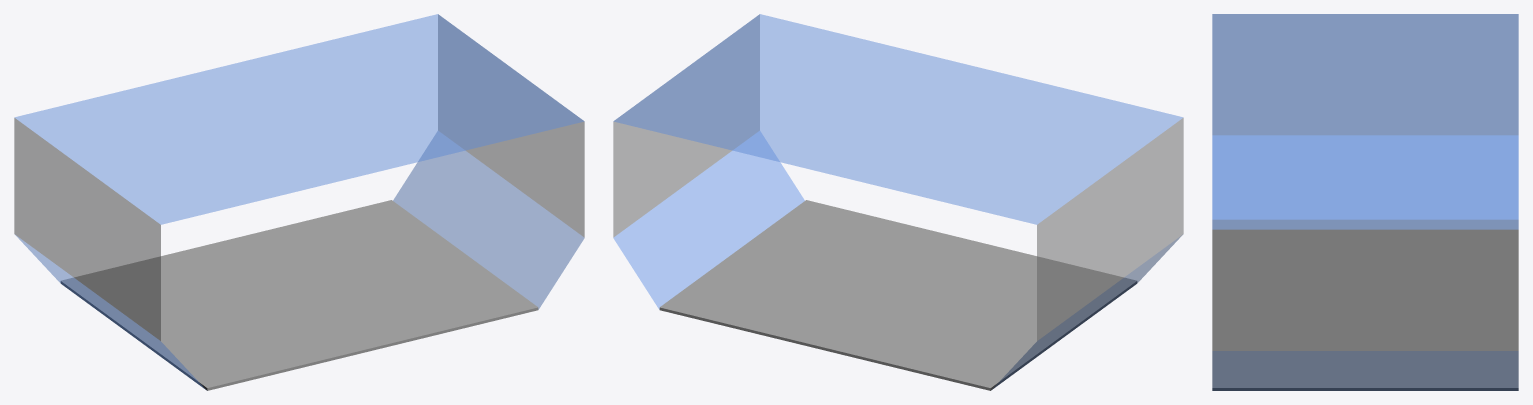
The model's file is pmc2.gltf.
3 views of the same model, side by side, from view 1: azimuth 30°, elevation 25°; view 2: azimuth 150°, elevation 25°; view 3: azimuth 270°, elevation 25° (orthographic). The views are drawn at different scales.
Visible parts, largest first — view 1: root; view 2: root; view 3: root.
Part boxes in pixels (x1=…): root: x1=14, y1=14, x2=584, y2=390; root: x1=613, y1=14, x2=1183, y2=390; root: x1=1212, y1=14, x2=1518, y2=390.
Size of the model in its own units: 4.06 by 1.63 by 2.44.
